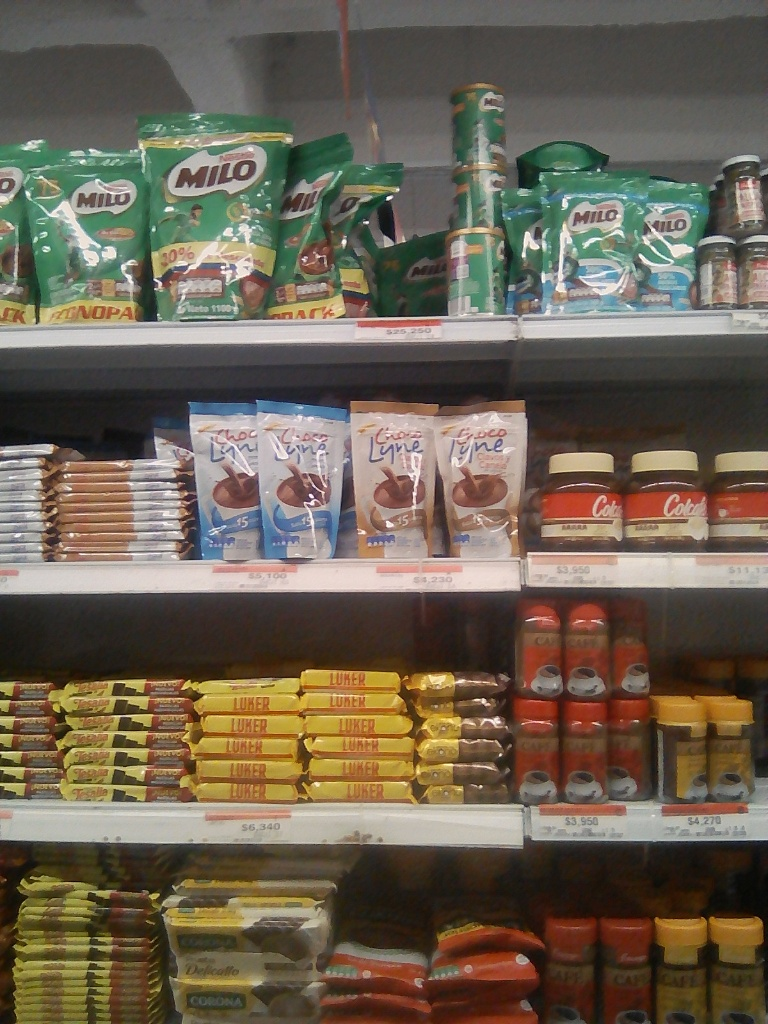COL0170203DYP25000: (269, 135, 352, 319)
COL0170203LAT20000: (445, 81, 512, 165)
COL0170205DYP20000: (539, 168, 646, 315)
